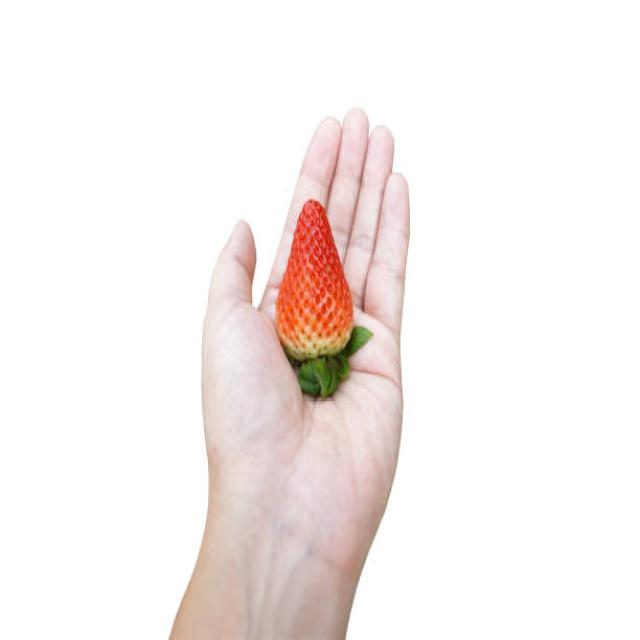Healthy Fruit: (276, 198, 353, 361)
